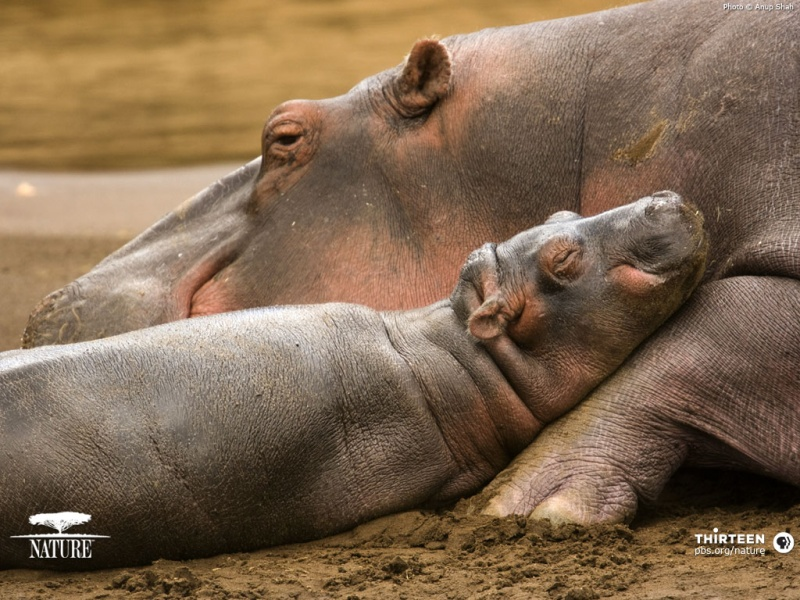hipopotamo: (0, 181, 712, 584), (17, 0, 632, 329)
